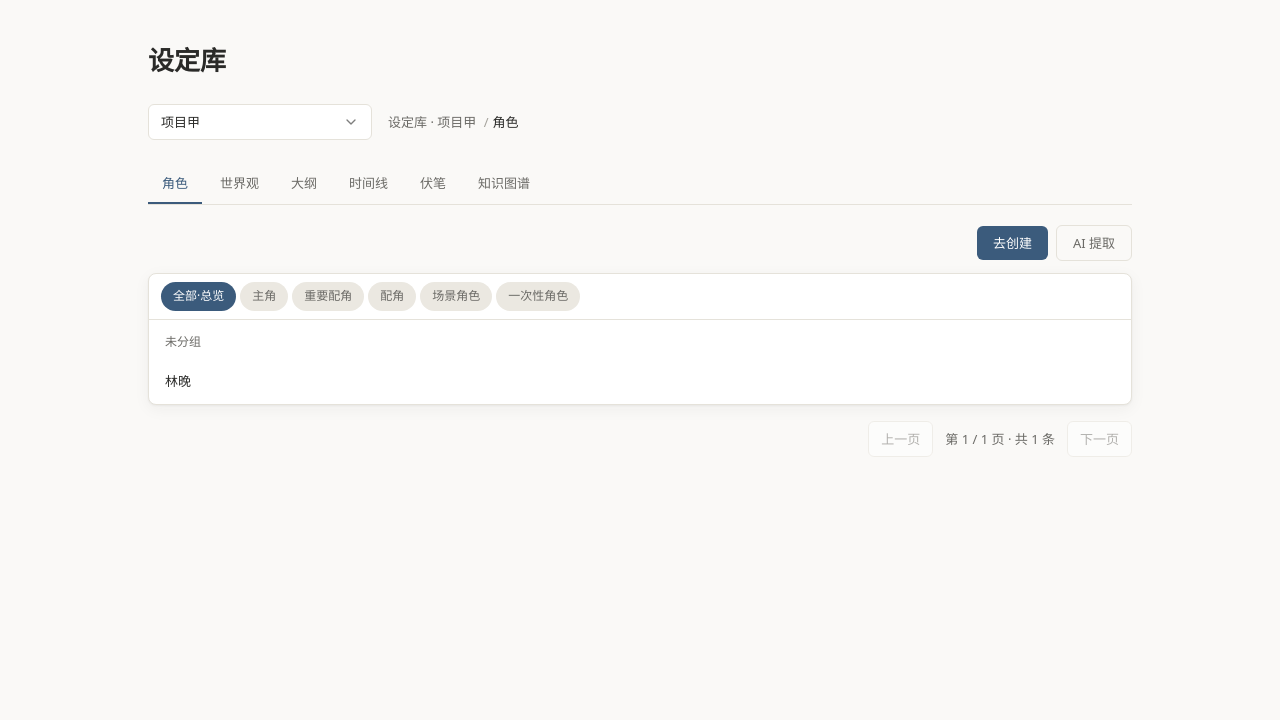
Test: #1002 大纲树排序 toggle + 顶层分页（LibraryPage 装配） › P3 顶层分页（pageSize=10, 12 条）：info 可见；next → offset=10 重拉；根 = O11,O12；next disabled；prev 回页 1；prev disabled
Click the tab "大纲": (304, 184) [277,164,331,204]
(page scrolled)
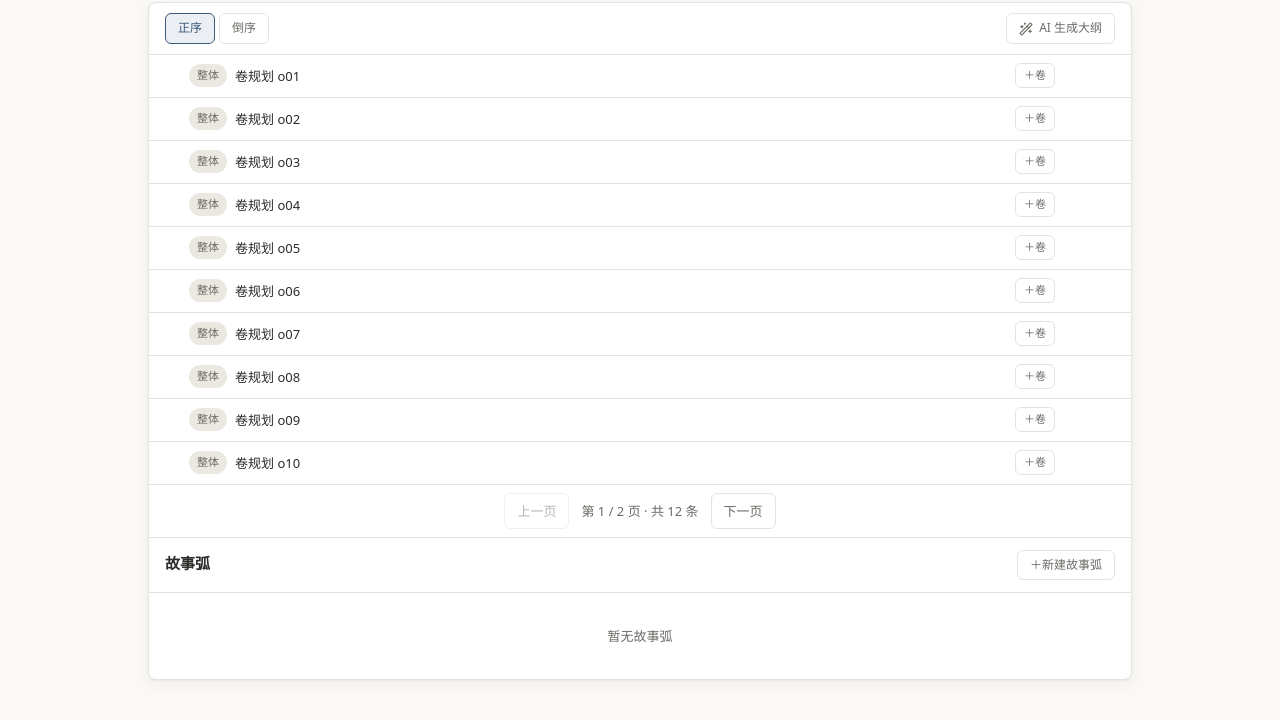
Expected: the button with test id "outline-page-prev" is disabled, [504,493,569,529]
Expected: the element with test id "outline-tree" is shown, [149,55,1131,484]
Expected: the text with test id "outline-page-info" reads "第 1 / 2 页 · 共 12 条", [581,502,698,520]
Click the button with test id "outline-page-next": (743, 511) [710,493,776,529]
(page scrolled)
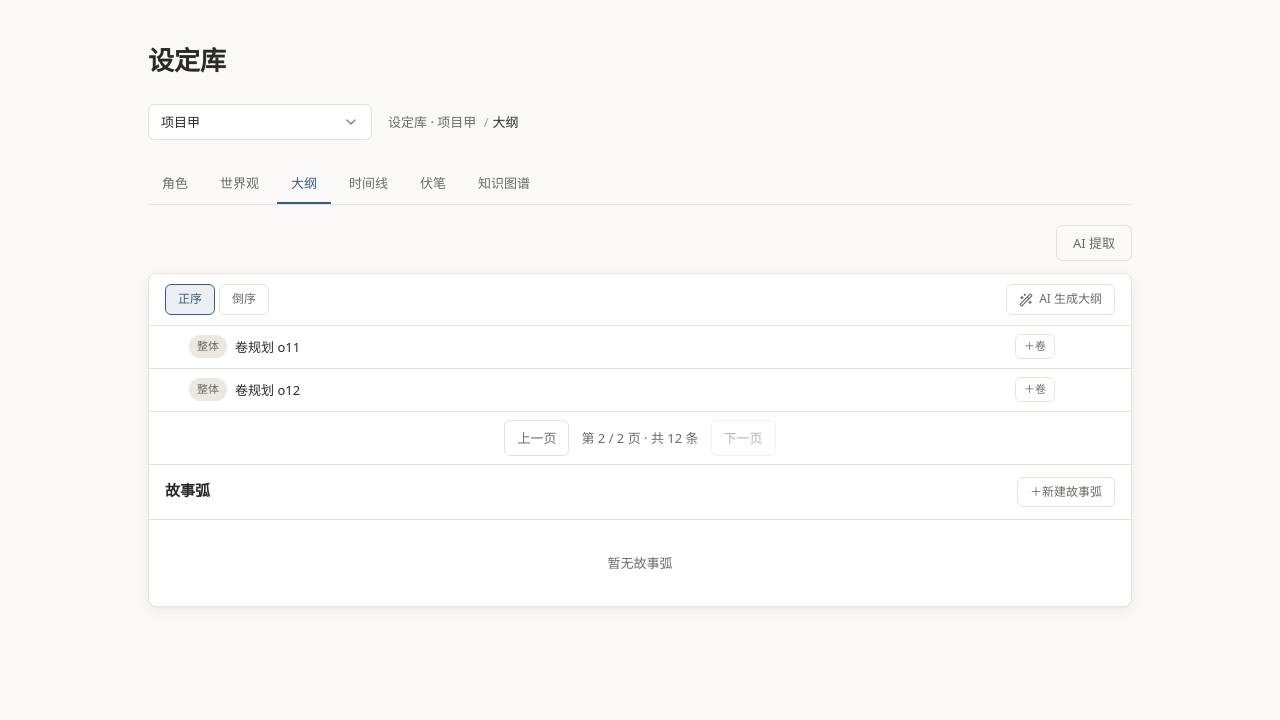
Expected: the text with test id "outline-page-info" reads "第 2 / 2 页 · 共 12 条", [581,429,698,447]
Expected: the button with test id "outline-page-next" is disabled, [710,420,776,456]
Click the button with test id "outline-page-prev": (537, 438) [504,420,569,456]
(page scrolled)
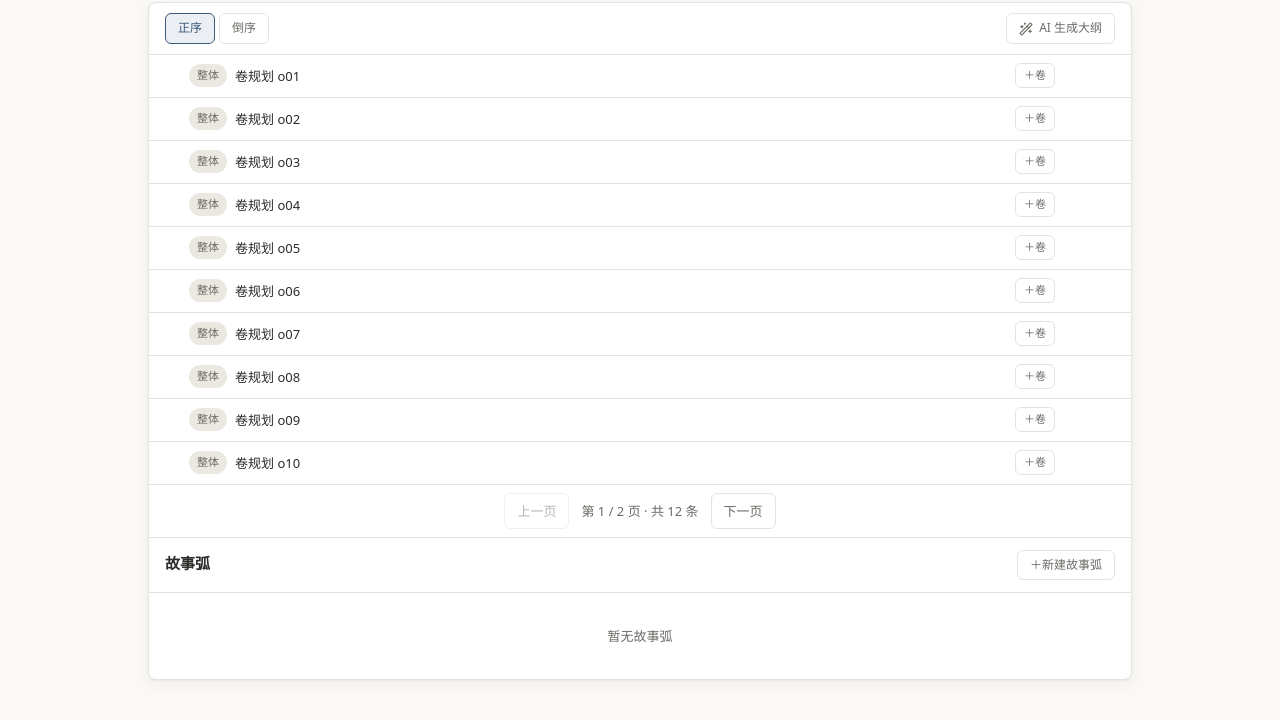
Expected: the button with test id "outline-page-prev" is disabled, [504,493,569,529]
